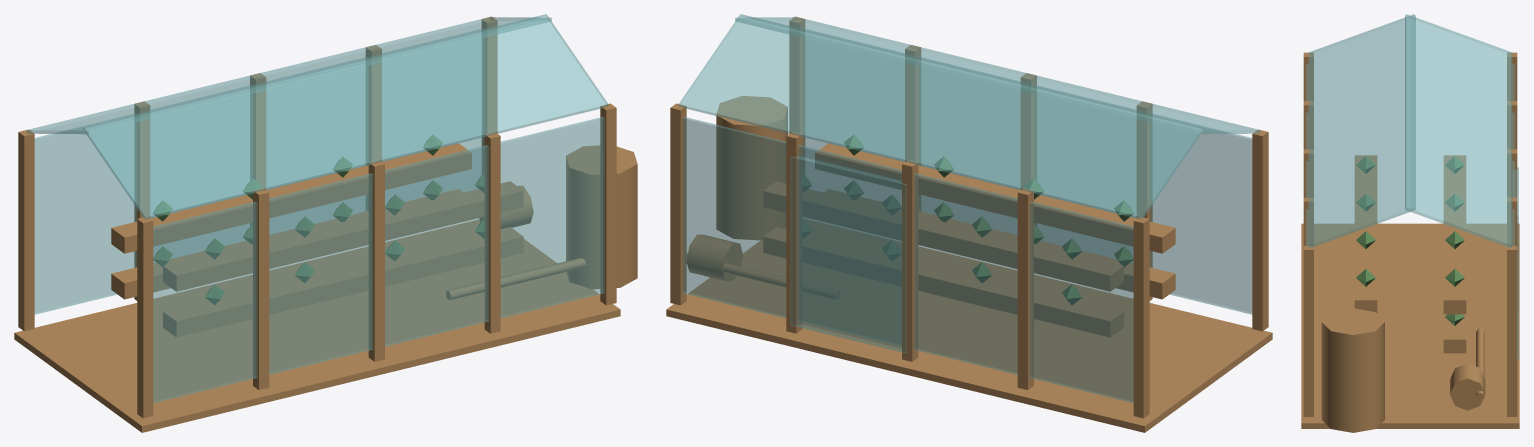
Rendered from Hydroponic-House.glb.
The picture shows the model from 3 angles, left to right: view 1: azimuth 30°, elevation 25°; view 2: azimuth 150°, elevation 25°; view 3: azimuth 270°, elevation 25°; orthographic projection. The views are drawn at different scales.
Visible parts, largest first — view 1: hand-pump-static-hydro-glass, hand-pump-static-hydro-rack, hand-pump-static-hydro-frame, hand-pump-static-hydro-tank, hand-pump-static-hydro-plant, hand-pump-static-hydro-nutrient; view 2: hand-pump-static-hydro-glass, hand-pump-static-hydro-rack, hand-pump-static-hydro-frame, hand-pump-static-hydro-tank, hand-pump-static-hydro-plant, hand-pump-static-hydro-nutrient; view 3: hand-pump-static-hydro-glass, hand-pump-static-hydro-rack, hand-pump-static-hydro-frame, hand-pump-static-hydro-tank, hand-pump-static-hydro-nutrient, hand-pump-static-hydro-plant.
Boxes of the visible parts, x1,y1,x2,y2 form: hand-pump-static-hydro-glass: (26, 14, 608, 402); hand-pump-static-hydro-rack: (14, 143, 620, 432); hand-pump-static-hydro-frame: (18, 16, 616, 418); hand-pump-static-hydro-tank: (566, 145, 637, 288); hand-pump-static-hydro-plant: (153, 135, 484, 304); hand-pump-static-hydro-nutrient: (446, 186, 586, 299); hand-pump-static-hydro-glass: (678, 14, 1260, 402); hand-pump-static-hydro-rack: (666, 143, 1272, 432); hand-pump-static-hydro-frame: (670, 16, 1268, 418); hand-pump-static-hydro-tank: (716, 96, 787, 240); hand-pump-static-hydro-plant: (803, 135, 1133, 304); hand-pump-static-hydro-nutrient: (687, 235, 840, 299); hand-pump-static-hydro-glass: (1306, 14, 1518, 359); hand-pump-static-hydro-rack: (1301, 155, 1519, 428); hand-pump-static-hydro-frame: (1303, 52, 1517, 416); hand-pump-static-hydro-tank: (1321, 308, 1384, 432); hand-pump-static-hydro-nutrient: (1450, 328, 1485, 410); hand-pump-static-hydro-plant: (1356, 156, 1464, 325).
Bounding box in the file's own units: 4.06 × 1.9 × 1.72.
